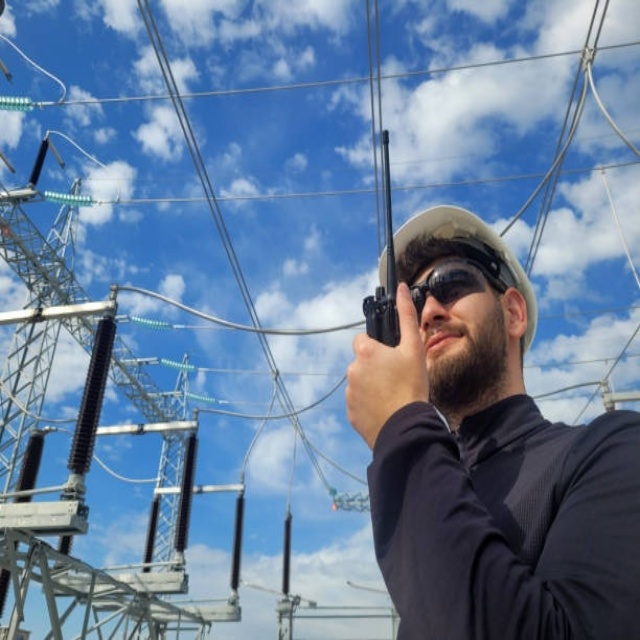Gafas: (405, 253, 511, 328)
Sin_guantes: (344, 281, 428, 446)
Sin_mascara: (424, 329, 462, 354)
